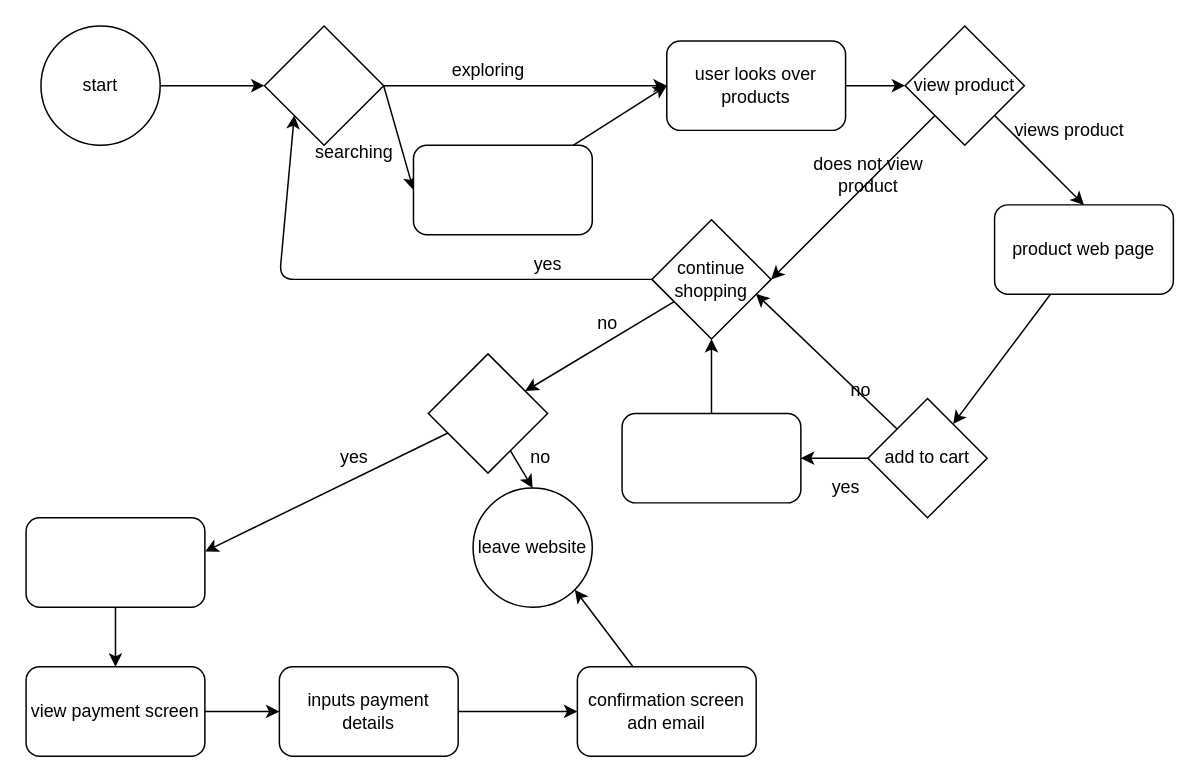
The diagram is 1199 pixels wide and 782 high, and some of its shapes have lost their labels. The shapes that lost their labels are listed below. From the top down, each one's box as (x1, y1, x2, y2) in pixels, then its label:
(263, 25, 384, 145): searching or exploring
(412, 144, 592, 235): user provides input
(427, 352, 548, 473): checkout
(621, 412, 801, 503): cart confirmation
(25, 516, 205, 607): view cart screen
